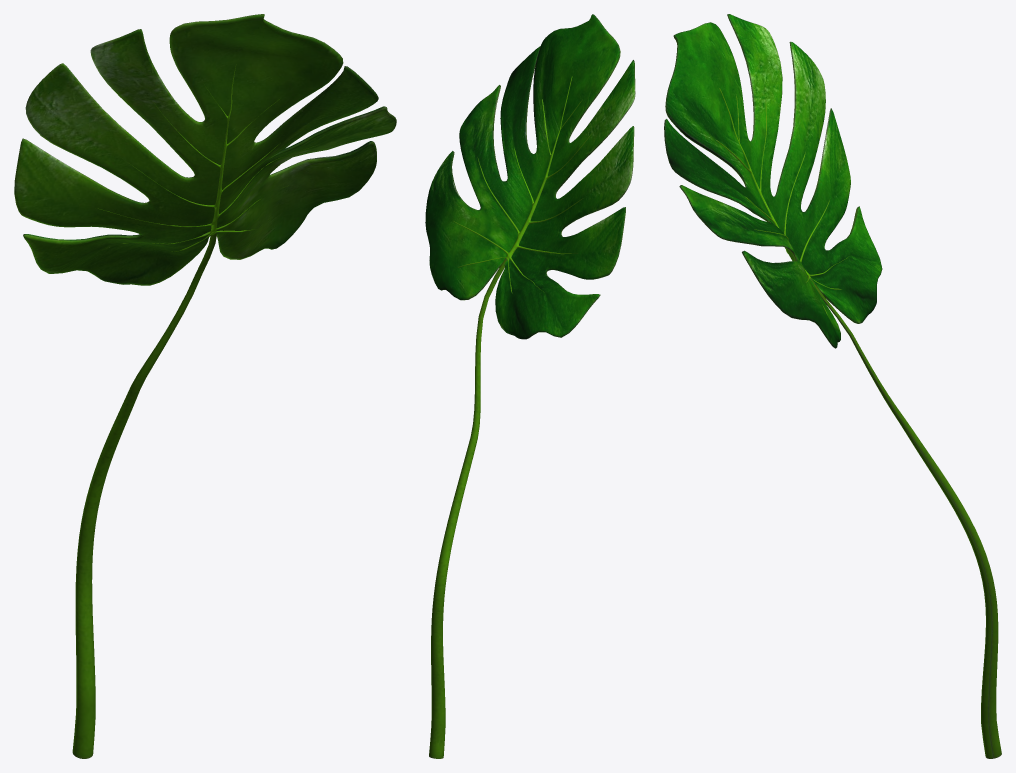
Rendered from monstera.glb.
The picture shows the model from 3 angles, left to right: view 1: azimuth 30°, elevation 25°; view 2: azimuth 150°, elevation 25°; view 3: azimuth 270°, elevation 25°; orthographic projection. The views are drawn at different scales.
Parts seen in each view (by area): view 1: Object_2; view 2: Object_2; view 3: Object_2.
Boxes of the visible parts, <box> form: Object_2: <box>14,14,396,758</box>; Object_2: <box>425,14,635,758</box>; Object_2: <box>664,14,1001,758</box>.
Bounding box in the file's own units: 0.3687 × 1 × 0.4286.
1 material, 1 textured.
